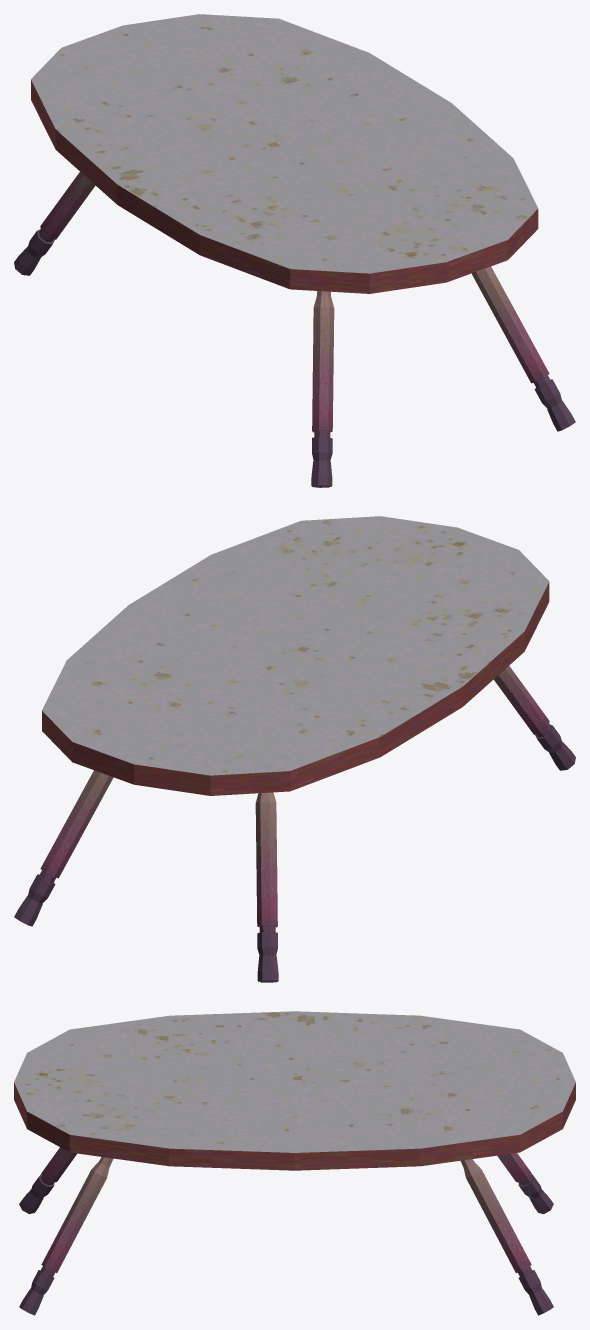
File: 90sTable.obj
The picture shows the model from 3 angles, top to bottom: view 1: azimuth 30°, elevation 25°; view 2: azimuth 150°, elevation 25°; view 3: azimuth 270°, elevation 25°; orthographic projection. The views are drawn at different scales.
Visible parts, largest first — view 1: Cube.044; view 2: Cube.044; view 3: Cube.044.
Part boxes in pixels (<box>): Cube.044: <box>14,14,575,487</box>; Cube.044: <box>14,516,575,982</box>; Cube.044: <box>14,1011,575,1315</box>.
Size of the model in its own units: 8.62 by 5.09 by 14.45.
